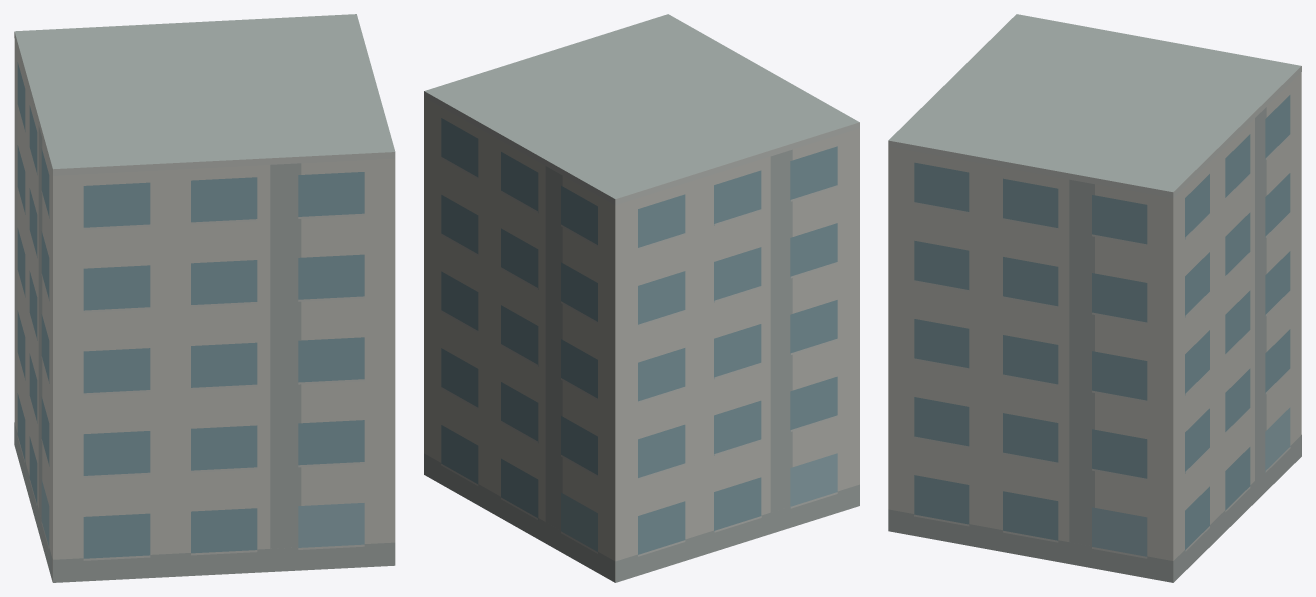
File: residential-1ed2de33-748b-40f1-bc85-7ea774130b6f.glb
The picture shows the model from 3 angles, left to right: view 1: azimuth 30°, elevation 25°; view 2: azimuth 150°, elevation 25°; view 3: azimuth 270°, elevation 25°; orthographic projection. The views are drawn at different scales.
Parts seen in each view (by area): view 1: residential-1ed2de33-748b-40f1-bc85-7ea774130b6f.tmp; view 2: residential-1ed2de33-748b-40f1-bc85-7ea774130b6f.tmp; view 3: residential-1ed2de33-748b-40f1-bc85-7ea774130b6f.tmp.
Boxes of the visible parts, box(x1,y1,x2,y2) form: residential-1ed2de33-748b-40f1-bc85-7ea774130b6f.tmp: box(14, 14, 395, 582); residential-1ed2de33-748b-40f1-bc85-7ea774130b6f.tmp: box(424, 14, 859, 582); residential-1ed2de33-748b-40f1-bc85-7ea774130b6f.tmp: box(888, 14, 1301, 582).
Size of the model in its own units: 14.93 by 15.25 by 14.64.
